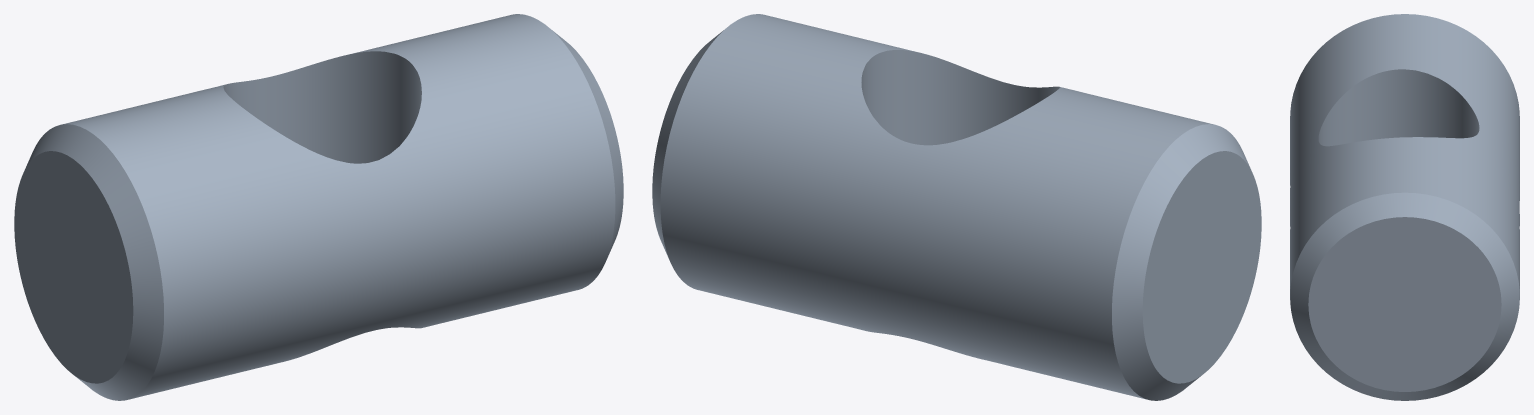
File: rocker_arm_pin.obj
3 renders of one model, left to right at view 1: azimuth 30°, elevation 25°; view 2: azimuth 150°, elevation 25°; view 3: azimuth 270°, elevation 25°, orthographic. The views are drawn at different scales.
Visible parts, largest first — view 1: 1; view 2: 1; view 3: 1.
Part boxes in pixels (box(x1,y1,x2,y2)): 1: box(14, 14, 623, 400); 1: box(652, 14, 1261, 400); 1: box(1290, 14, 1519, 400).
Size of the model in its own units: 19.05 by 9.53 by 9.53.
